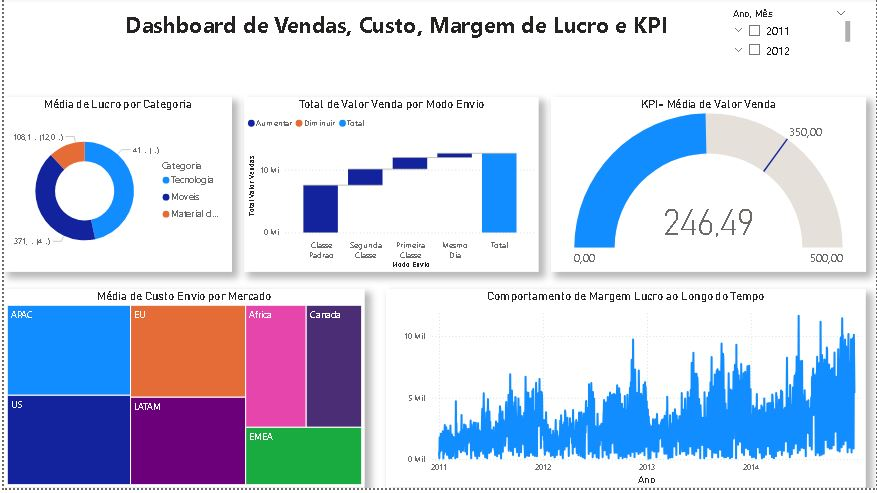

The page's visual inventory and layout, read from the dashboard file:
{"tool":"powerbi","page":{"name":"lab2","canvas":[1280,720],"ordinal":0},"visuals":[{"type":"waterfallChart","title":"Total de Valor Venda por Modo Envio","fields":{"Category":["Pedidos.Modo Envio"],"Y":["Sum(Vendas.Valor Venda)"]},"box":[352.7,145.5,433.5,257.1],"z":0},{"type":"treemap","fields":{"Group":["Clientes.Mercado"],"Values":["Avg(Vendas.Custo Envio)"]},"box":[0,427.6,530.4,292.4],"z":1000},{"type":"gauge","title":"KPI- Média de Valor Venda","fields":{"Y":["Avg(Vendas.Valor Venda)"]},"box":[803.8,145.5,462.9,257.1],"z":2000},{"type":"slicer","fields":{"Values":["Pedidos.Data Pedido.Variation.Hierarquia de datas.Ano","Pedidos.Data Pedido.Variation.Hierarquia de datas.Mês"]},"box":[1058,10.3,191,88.2],"z":3000},{"type":"donutChart","fields":{"Category":["Produtos.Categoria"],"Y":["Avg(Vendas.Lucro)"]},"box":[0,145.5,335,257.1],"z":4000},{"type":"lineChart","title":"Comportamento de Margem Lucro ao Longo do Tempo","fields":{"Y":["Sum(Vendas.MargemLucro)"],"Category":["Pedidos.Data Pedido.Variation.Hierarquia de datas.Ano","Pedidos.Data Pedido.Variation.Hierarquia de datas.Trimestre","Pedidos.Data Pedido.Variation.Hierarquia de datas.Mês","Pedidos.Data Pedido.Variation.Hierarquia de datas.Dia"]},"box":[561.3,427.6,705.3,292.4],"z":5000},{"type":"textbox","box":[117.6,10.3,918.4,105.8],"z":6000}]}

Visuals, with their boxes in screenshot pixels (x1, y1, x2, y2), scaled from the page's 1280x720 canvas onto the 877x493 screenshot:
"Total de Valor Venda por Modo Envio" waterfallChart: 242:100:539:276
treemap - Clientes.Mercado x Avg(Vendas.Custo Envio): 0:293:363:492
"KPI- Média de Valor Venda" gauge: 551:100:868:276
slicer - Pedidos.Data Pedido.Variation.Hierarquia de datas.Ano x Pedidos.Data Pedido.Variation.Hierarquia de datas.Mês: 725:7:856:67
donutChart - Produtos.Categoria x Avg(Vendas.Lucro): 0:100:230:276
"Comportamento de Margem Lucro ao Longo do Tempo" lineChart: 385:293:868:492
textbox: 81:7:710:79
